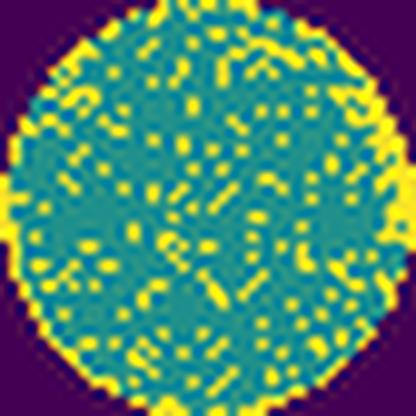Edge-Loc: (291, 14, 415, 252)
